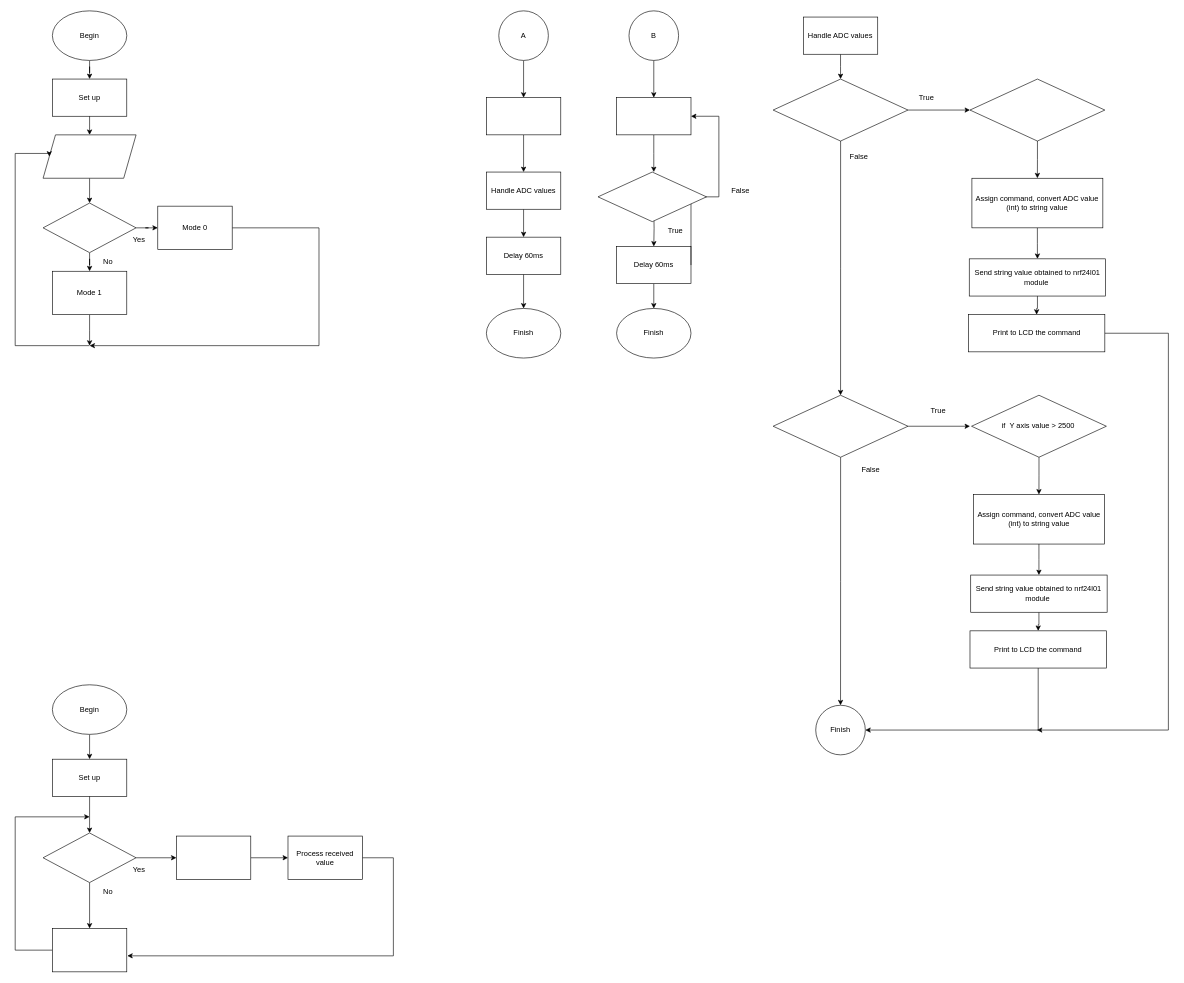
This 1184x983 diagram has some shape labels left out. The shapes that lost their labels are listed below. From the top down, each one's centre as x and y in pixels, then its label:
(523,116): Read Joystick ADC values
(653,116): Read Mode button
(840,109): if X axis value > 2500 or < 1500
(1037,109): if X axis value > 2500
(89,156): Read Joystick
(651,196): if Mode button != 1
(89,227): If Mode is 0
(840,426): if Y axis value > 2500 or < 1500
(89,857): Is data available?
(213,857): Receive Value
(89,950): Run the car follow its mode
